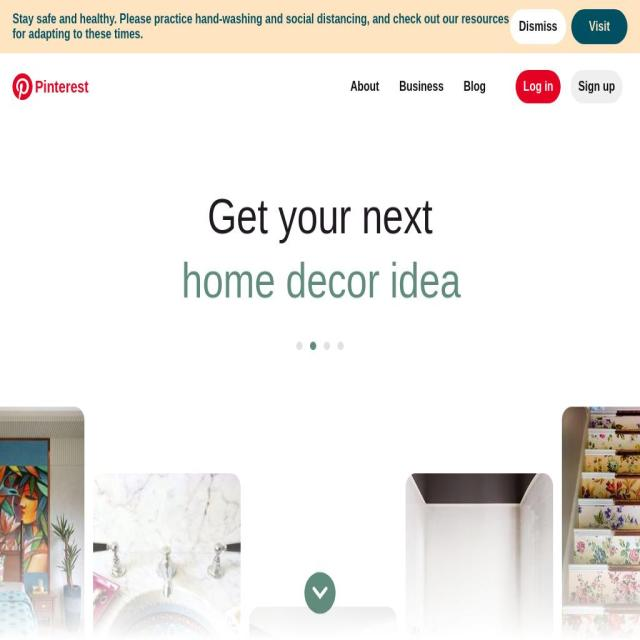button: (12, 12, 510, 42), (566, 9, 628, 44), (510, 9, 566, 44), (572, 9, 628, 44), (570, 70, 622, 103), (516, 70, 561, 103), (304, 583, 336, 625), (398, 79, 444, 94), (350, 79, 379, 94), (463, 79, 486, 94)
heading: (35, 76, 89, 96)
image: (0, 511, 640, 640), (93, 472, 241, 640), (406, 472, 553, 640), (0, 382, 84, 639), (562, 406, 640, 640), (249, 606, 397, 640), (12, 73, 32, 100), (312, 594, 328, 614)
text: (138, 219, 504, 278), (181, 282, 461, 341), (12, 12, 510, 40), (207, 187, 433, 246), (398, 79, 444, 94), (578, 79, 615, 94), (523, 79, 554, 94), (350, 79, 379, 94), (463, 79, 486, 94)
